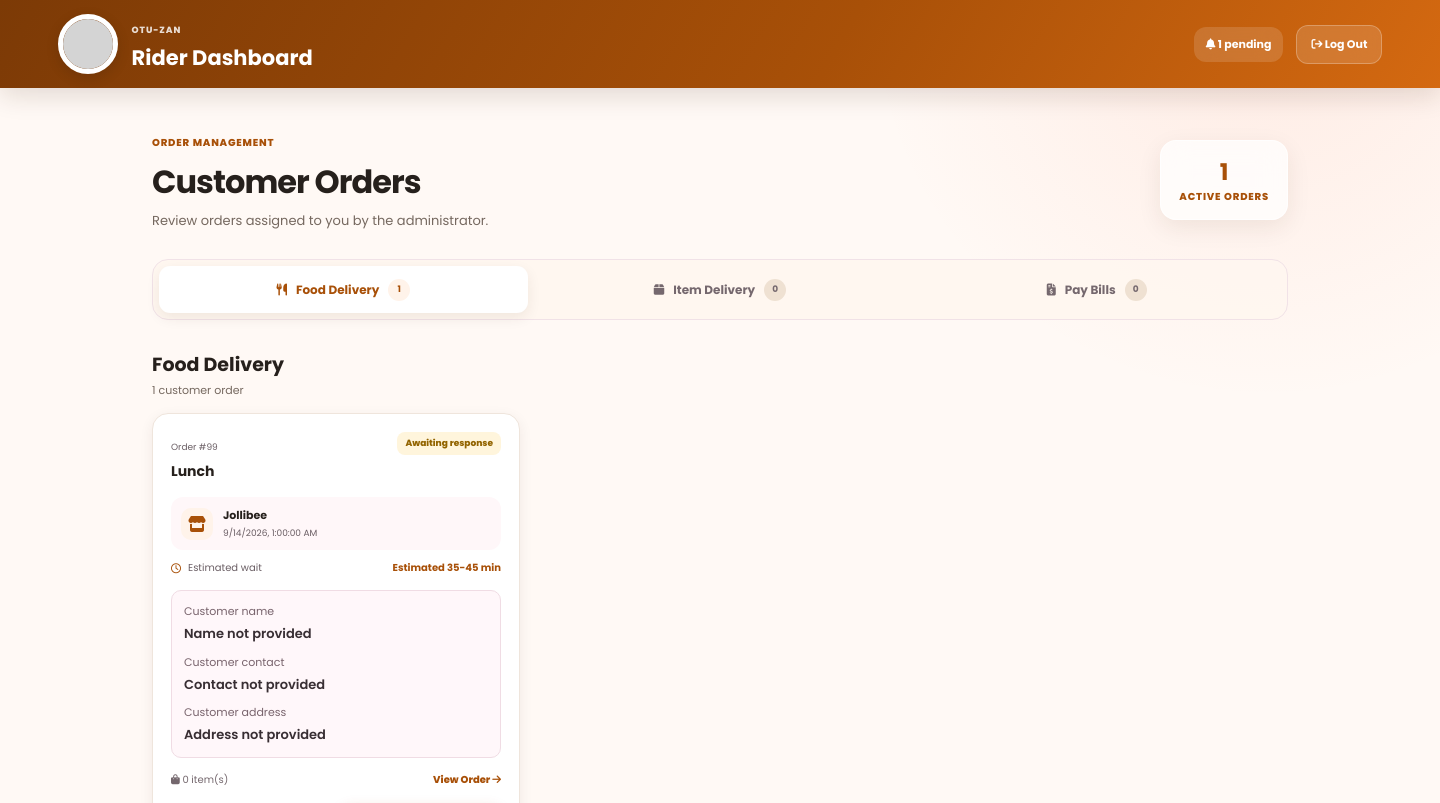
Scenario: a failed rider progress request releases the updating button
Click the button "View Order". click: (467, 780)
box: [433,772,501,788]
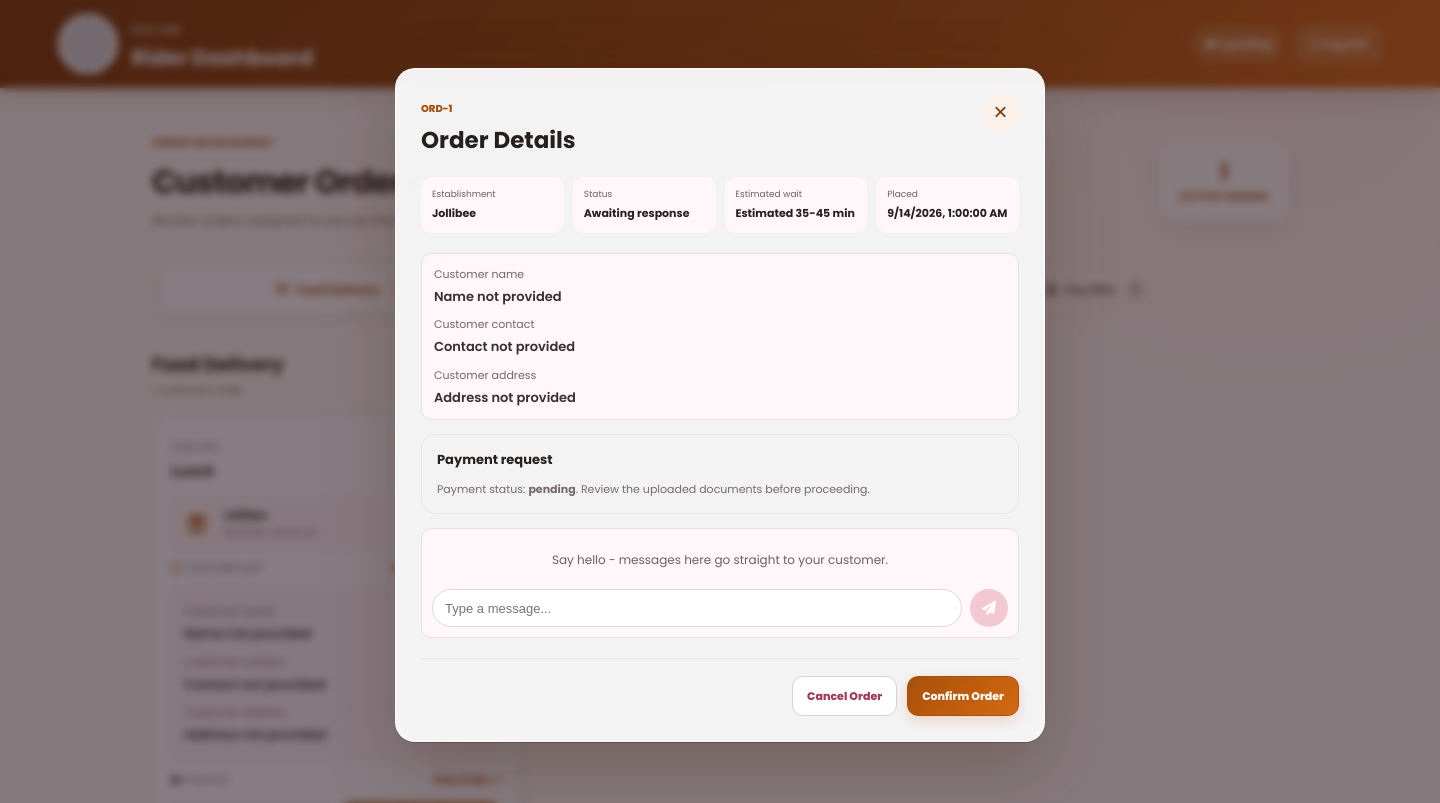
Click the button "Confirm Order". click: (963, 696)
box: [907,676,1019,716]
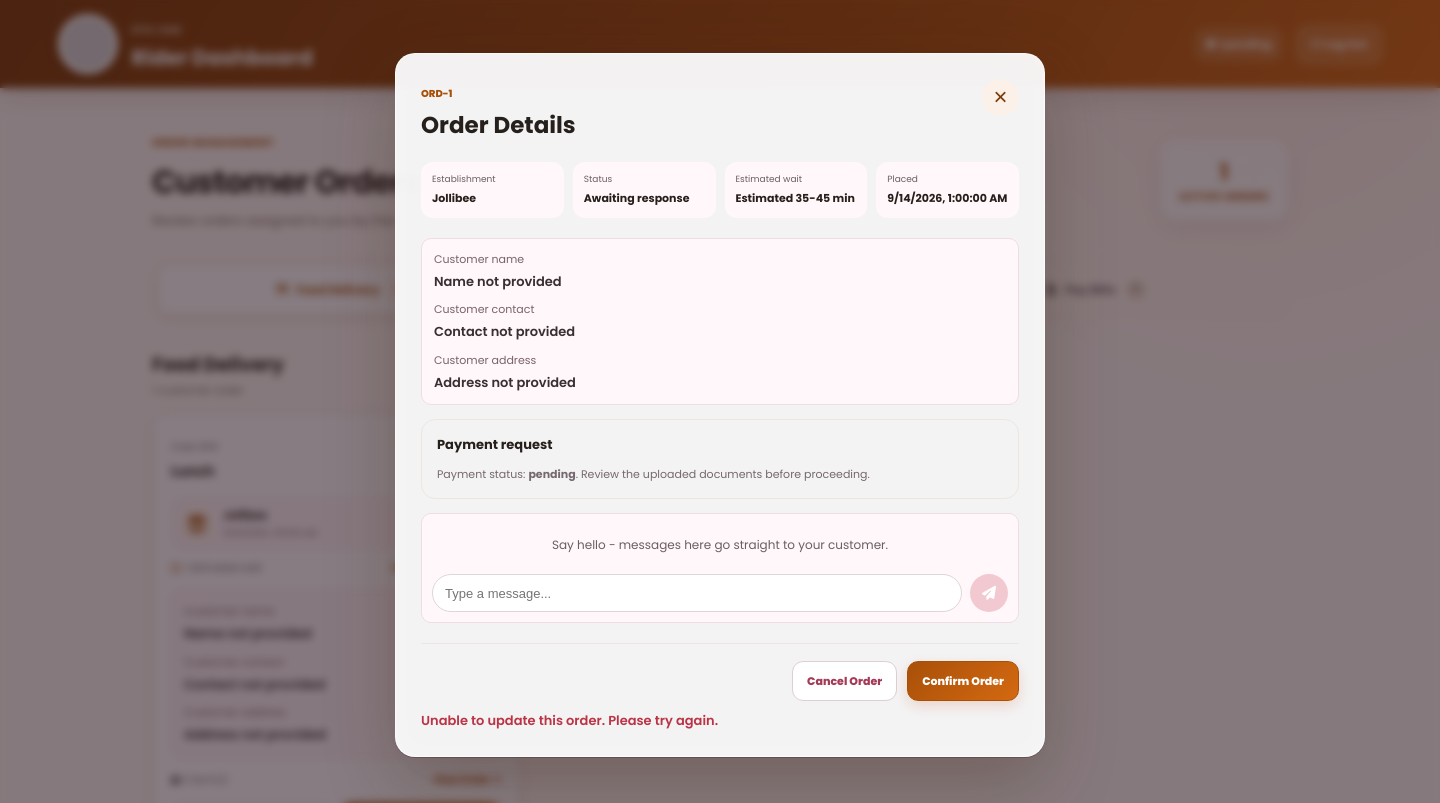
expect the message shows "Unable to update this order": met, box [421,711,718,730]
Click the button "Confirm Order". click: (963, 681)
box: [907,661,1019,701]
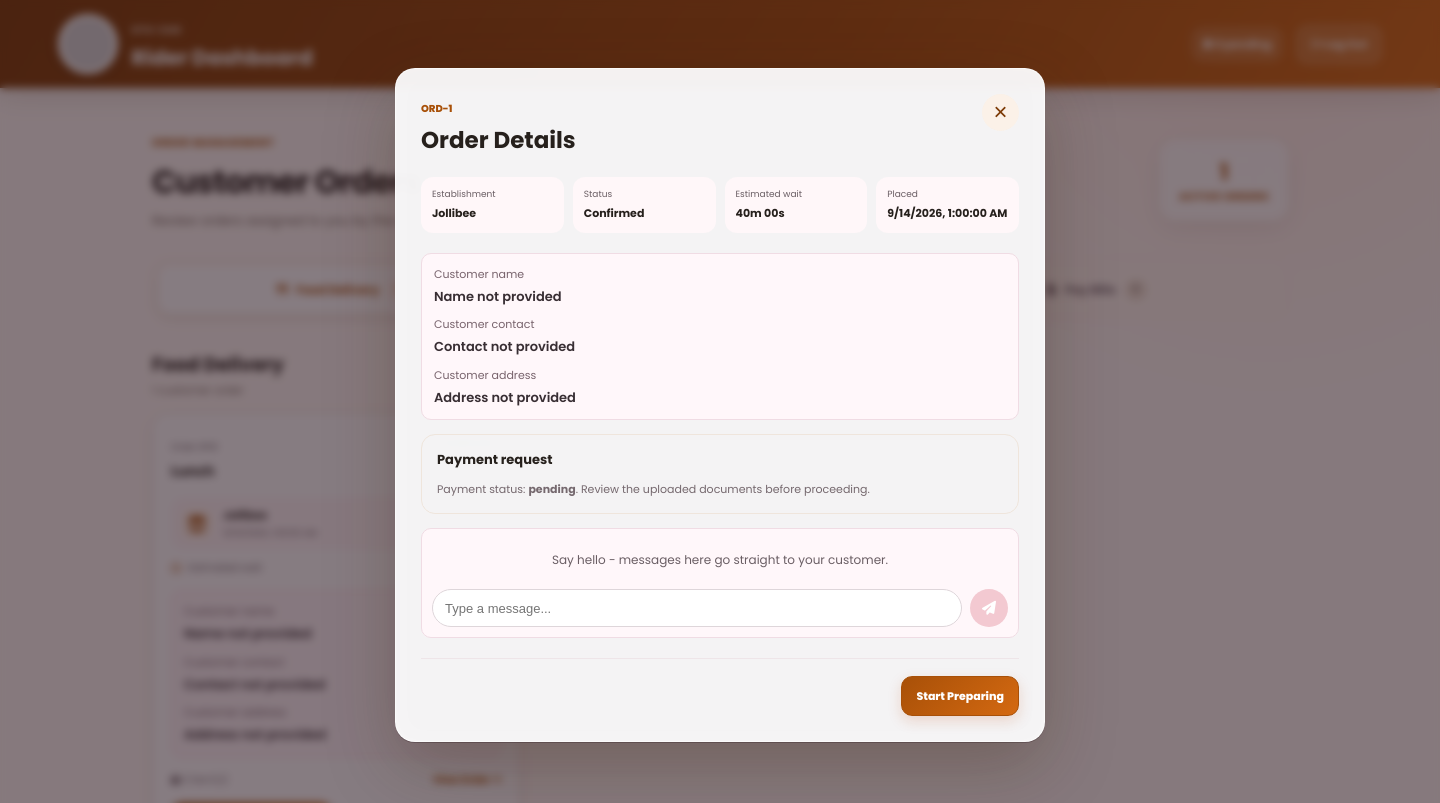
expect the button "Start Preparing" is enabled: met, box [901,676,1019,716]
